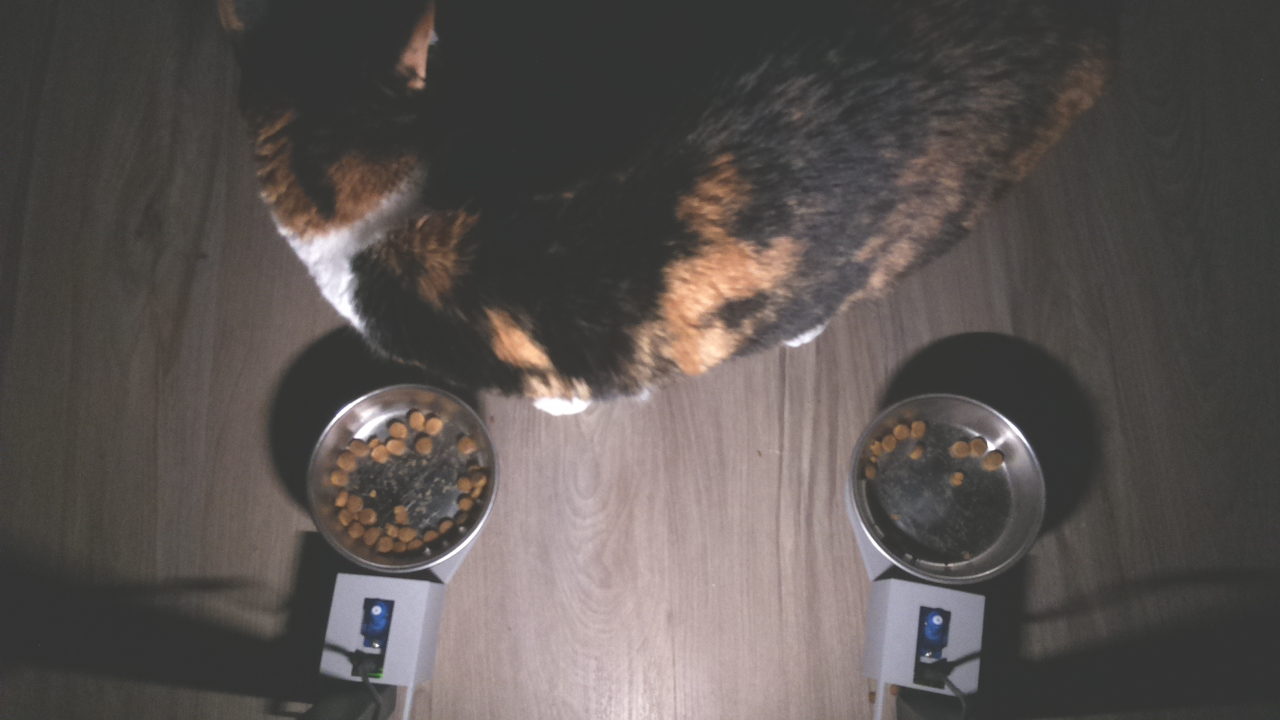bella: (198, 1, 499, 258)
open_bowl: (845, 389, 1056, 597), (304, 375, 500, 575)
